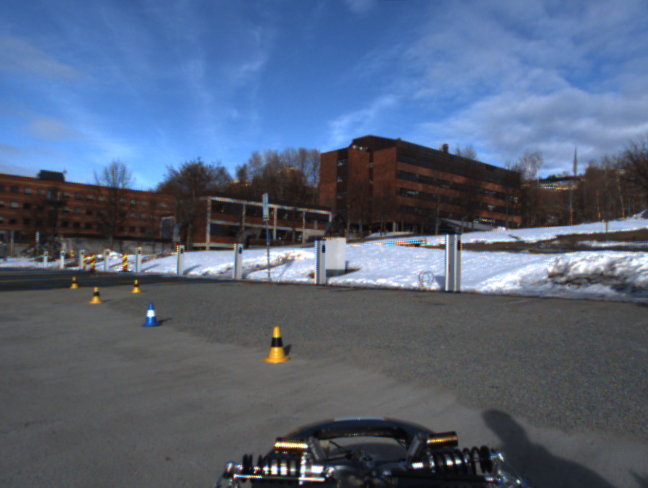cone-small-blue: (141, 302, 160, 329)
cone-small-yellow: (263, 326, 291, 364), (90, 286, 105, 304), (131, 279, 141, 293), (70, 276, 79, 289)
